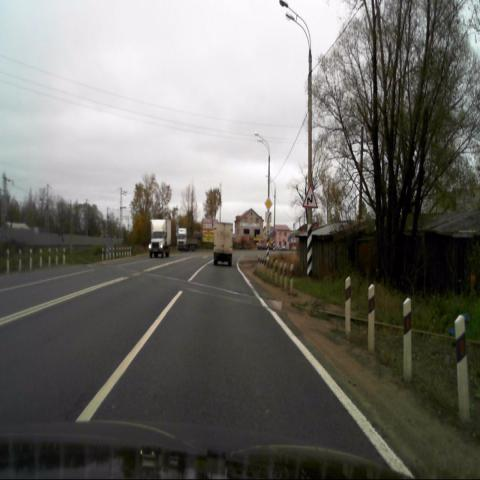1_12: (302, 183, 318, 209)
